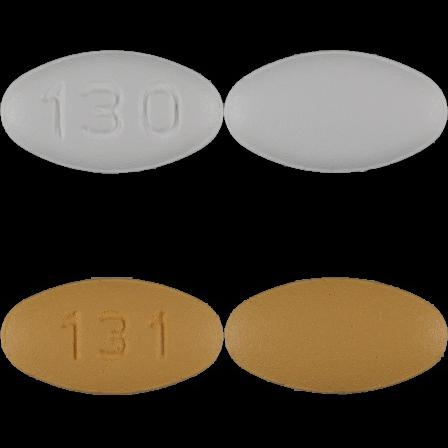21695-834: (0, 0, 224, 224)
